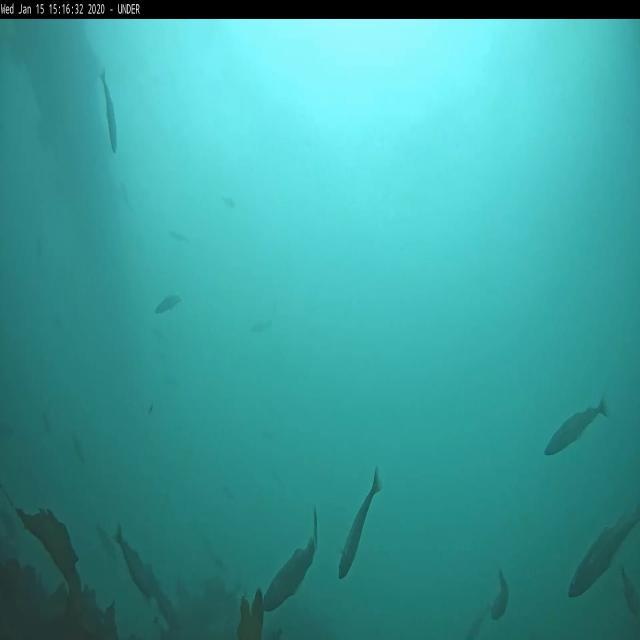fish: (568, 506, 640, 596), (260, 506, 318, 610), (336, 469, 382, 582), (542, 399, 608, 454), (114, 522, 157, 600), (100, 70, 118, 154), (491, 568, 509, 622), (95, 520, 116, 558), (152, 294, 184, 316), (248, 322, 273, 334), (222, 194, 236, 209), (168, 232, 186, 240)
